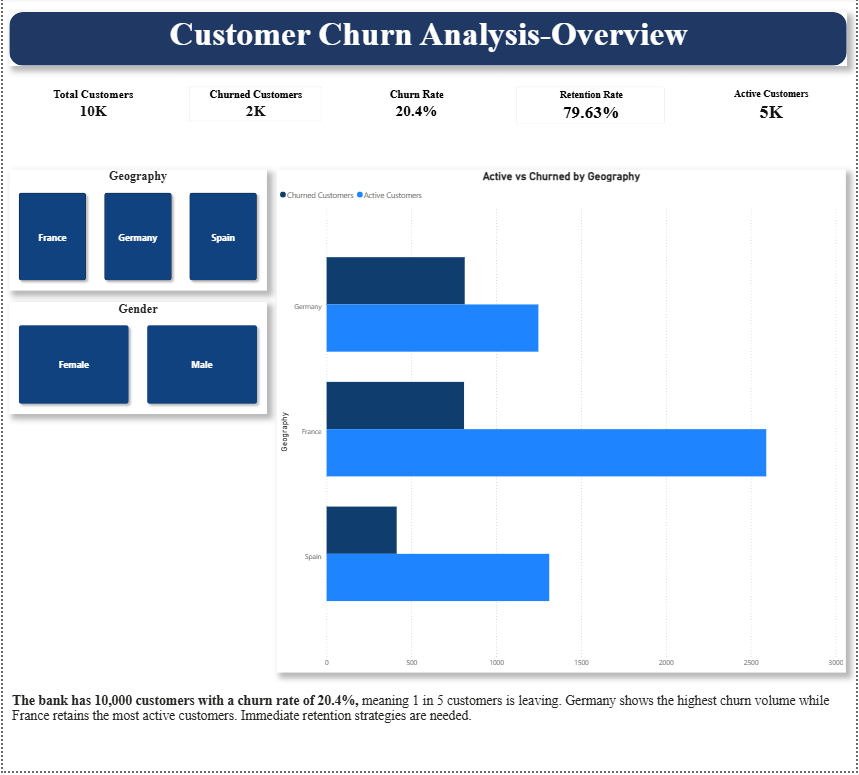

This screenshot's page, from the dashboard's own definition file:
{"tool":"powerbi","page":{"name":" Overview","canvas":[1500,1360],"ordinal":0},"visuals":[{"type":"cardVisual","fields":{"Data":["churn_db churn_data.Total Customers"]},"box":[27.5,140,260,95],"z":0},{"type":"shape","box":[11,26.4,1471.6,94.4],"z":1000},{"type":"cardVisual","fields":{"Data":["churn_db churn_data.Churned Customers"]},"box":[310,140,267.5,95],"z":2000},{"type":"cardVisual","fields":{"Data":["churn_db churn_data.Churn Rate"]},"box":[590,140,272.5,95],"z":3000},{"type":"advancedSlicerVisual","fields":{"Values":["churn_db churn_data.Geography"]},"box":[11.5,302.6,452.7,212.5],"z":4000},{"type":"advancedSlicerVisual","fields":{"Values":["churn_db churn_data.Gender"]},"box":[11.5,535.9,452.7,196.3],"z":5000},{"type":"cardVisual","fields":{"Data":["churn_db churn_data.Retention Rate"]},"box":[885,140,295,100],"z":6000},{"type":"cardVisual","fields":{"Data":["churn_db churn_data.Active Customers"]},"box":[1202.5,140,297.5,100],"z":7000},{"type":"clusteredBarChart","title":"Active vs Churned by Geography","fields":{"Category":["churn_db churn_data.Geography"],"Y":["churn_db churn_data.Churned Customers","churn_db churn_data.Active Customers"]},"box":[481.2,303.4,1000.3,884.2],"z":8000},{"type":"textbox","box":[287.7,26.4,1107,76.9],"z":10000},{"type":"textbox","box":[11.9,1216,1469.7,99.6],"z":10001}]}

Visuals, with their boxes in screenshot pixels (x1, y1, x2, y2), scaled from the page's 1500x1360 canvas onto the 859x775 screenshot:
cardVisual - churn_db churn_data.Total Customers: l=16, t=80, r=165, b=134
shape: l=6, t=15, r=849, b=69
cardVisual - churn_db churn_data.Churned Customers: l=178, t=80, r=331, b=134
cardVisual - churn_db churn_data.Churn Rate: l=338, t=80, r=494, b=134
advancedSlicerVisual - churn_db churn_data.Geography: l=7, t=172, r=266, b=294
advancedSlicerVisual - churn_db churn_data.Gender: l=7, t=305, r=266, b=417
cardVisual - churn_db churn_data.Retention Rate: l=507, t=80, r=676, b=137
cardVisual - churn_db churn_data.Active Customers: l=689, t=80, r=858, b=137
"Active vs Churned by Geography" clusteredBarChart: l=276, t=173, r=848, b=677
textbox: l=165, t=15, r=799, b=59
textbox: l=7, t=693, r=848, b=750
